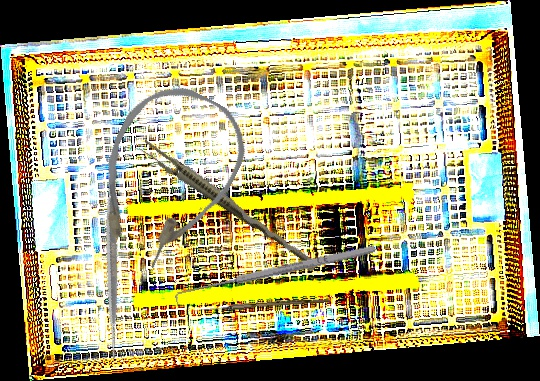Cannula: (70, 69, 262, 283)
Hook Surgical: (173, 242, 378, 308)
Spatula Surgical: (5, 155, 218, 368)
Surgical Spoon: (192, 296, 331, 314)
Tissue Forceps: (136, 138, 323, 273)
